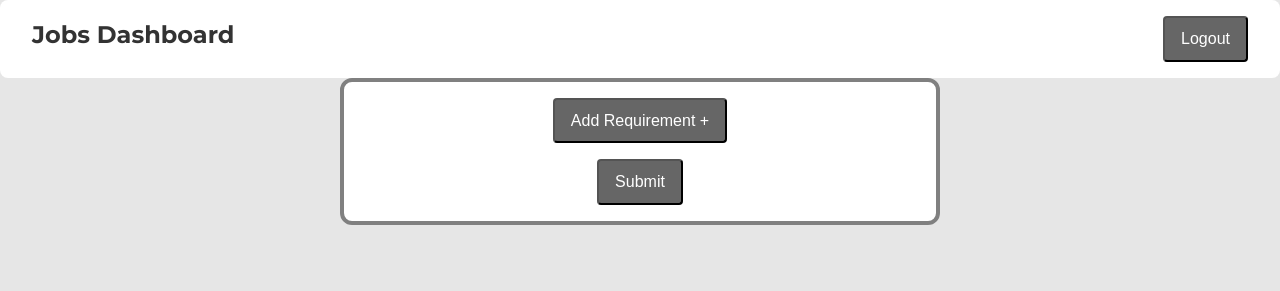
Test case: /role/$roleId/requirements/add › Form submission › when the user tries to submit without adding any requirements › displays an error
Click the button "Submit": {"x": 640, "y": 182} [597,159,683,205]
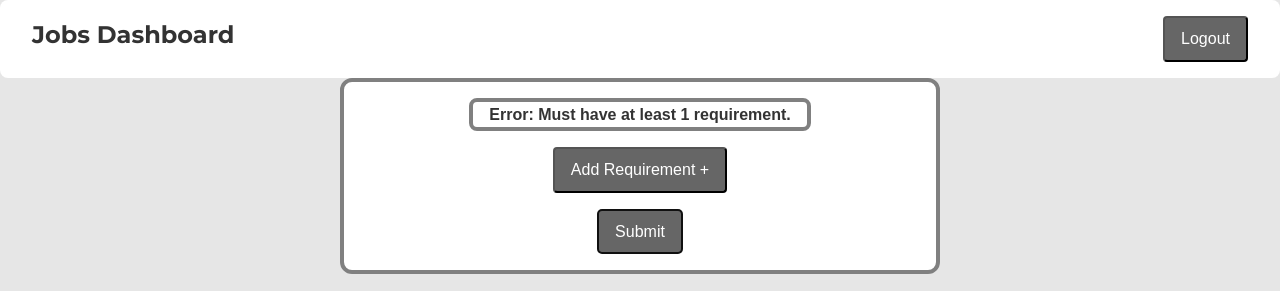
Result: the message reads "Error: Must have at least 1 requirement." at [469,98,811,131]
